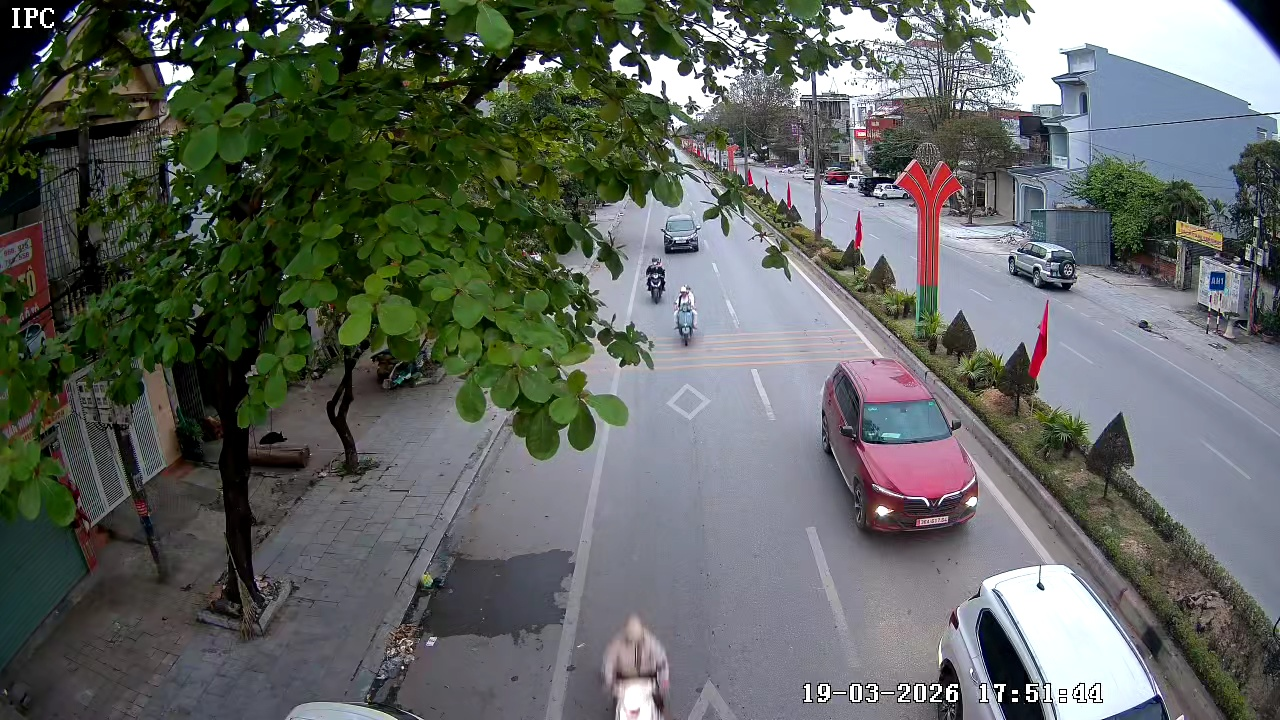car: (932, 560, 1174, 719), (818, 358, 980, 535), (1007, 240, 1080, 290), (661, 210, 701, 255)
motorbike: (599, 613, 673, 719), (672, 283, 700, 347), (645, 253, 668, 305)
